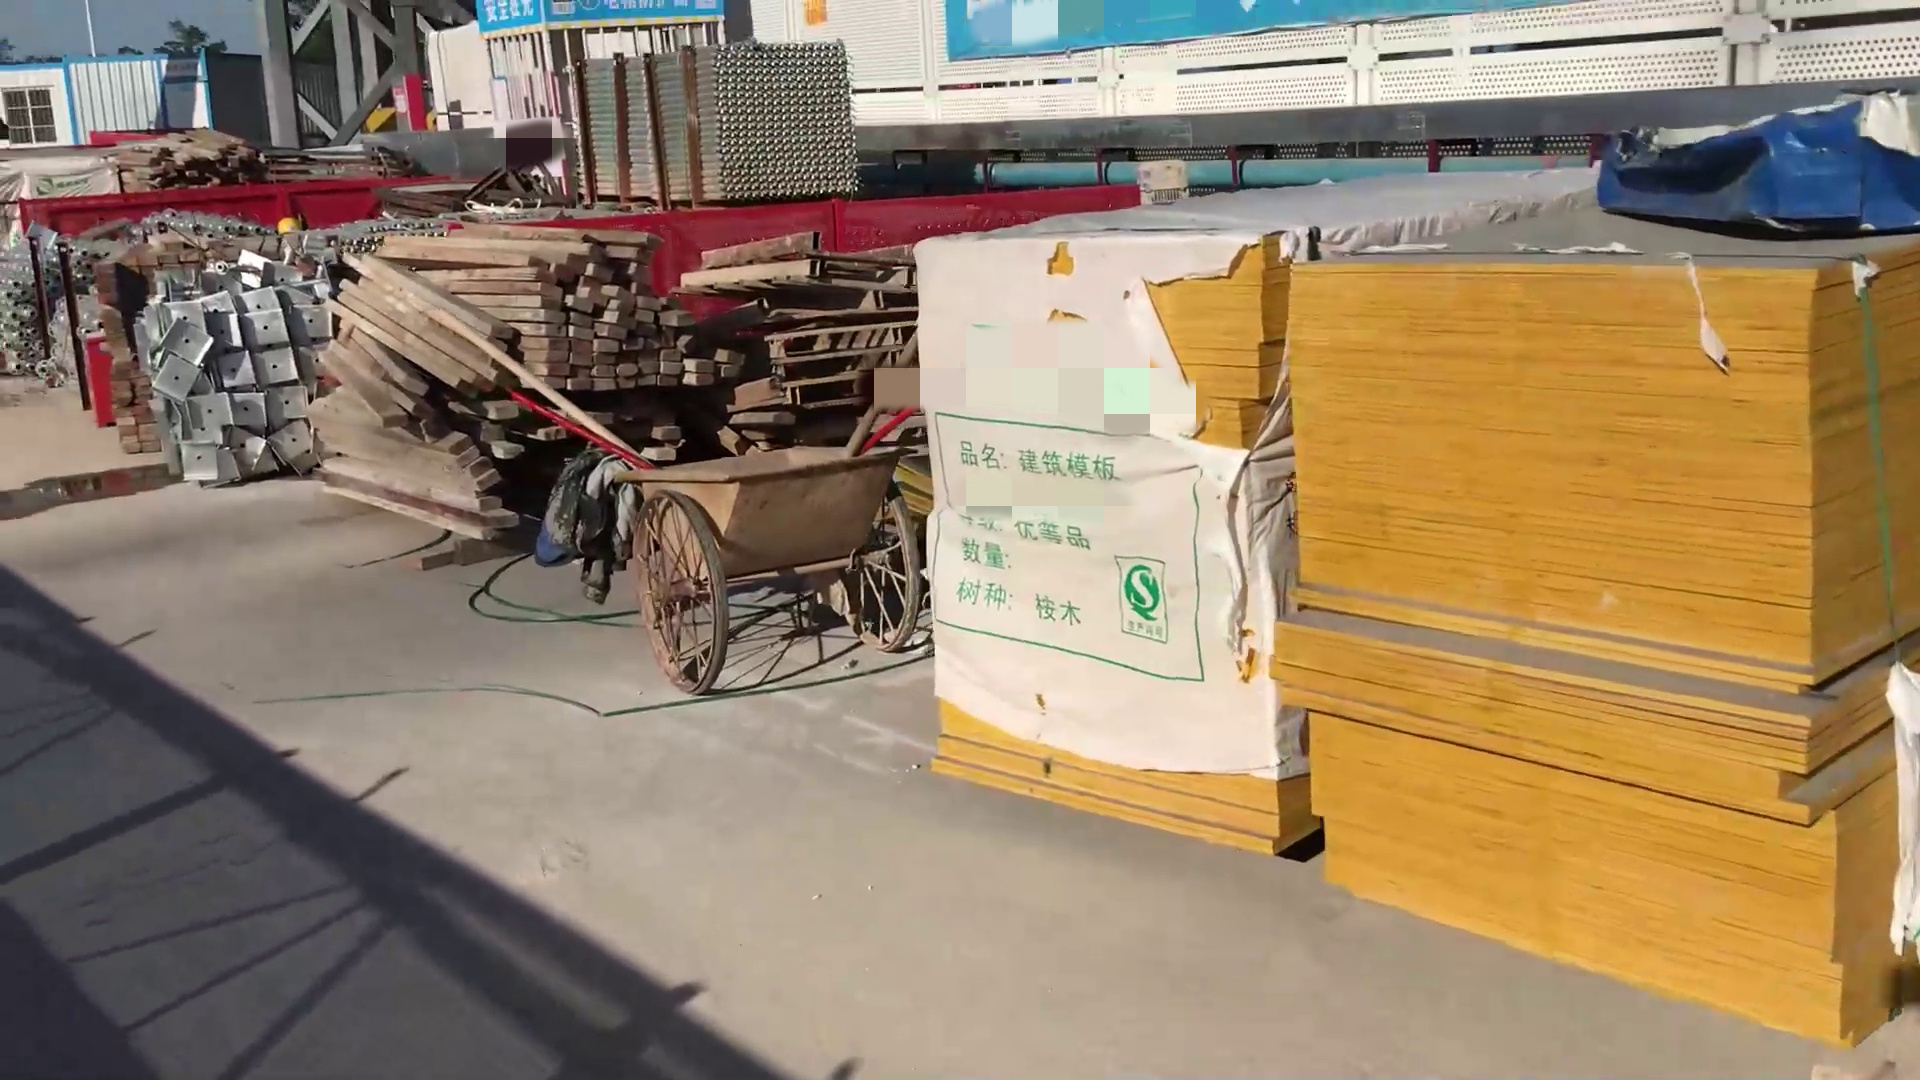board: (1283, 260, 1920, 1048), (913, 229, 1284, 849)
handcart: (618, 438, 915, 679)
rebar: (583, 42, 858, 202)
scaffold: (1, 232, 53, 375)
wood: (316, 237, 724, 518)
